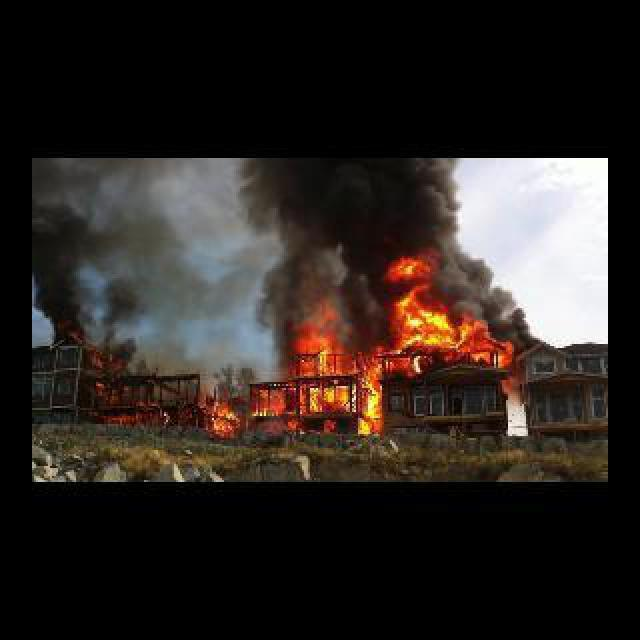smoke: (230, 160, 520, 310), (32, 162, 168, 372)
zfire: (370, 308, 506, 436), (258, 338, 380, 432), (208, 394, 240, 442)
